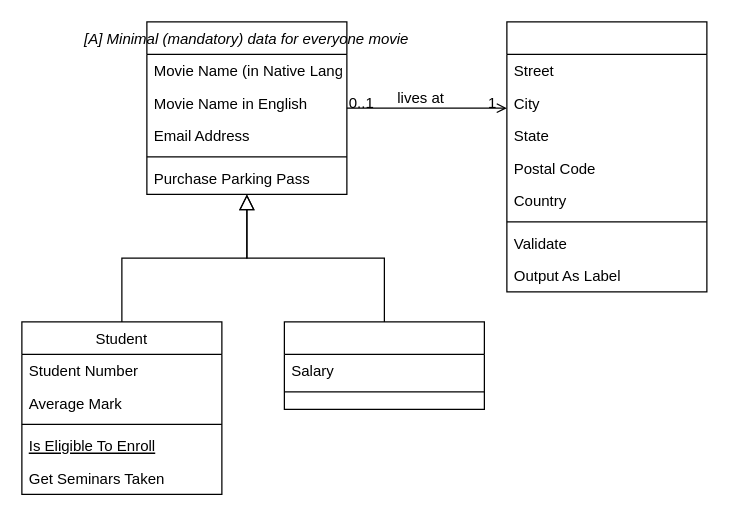
This 729x520 diagram has some shape labels left out. Here are the shapes that lost their labels. From the top down, the box of each, then its label:
(506, 21, 707, 292): Address
(283, 321, 484, 409): Professor
